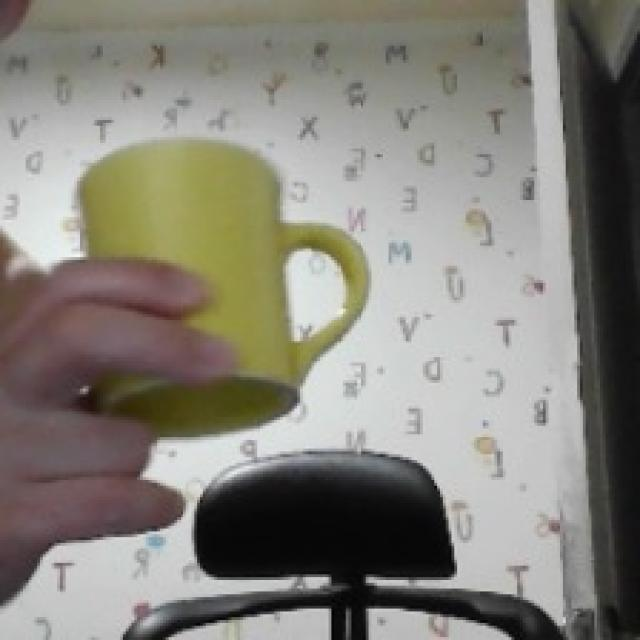cup: (80, 140, 363, 434)
